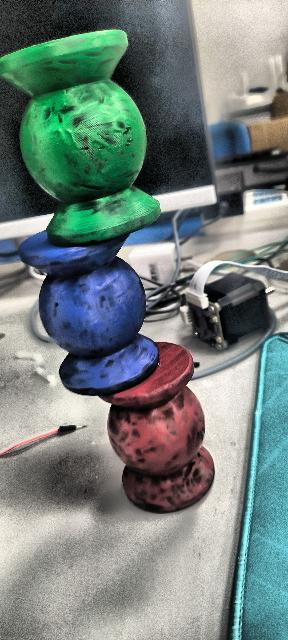blue: (18, 229, 160, 398)
green: (0, 21, 173, 242)
red: (87, 335, 226, 519)
